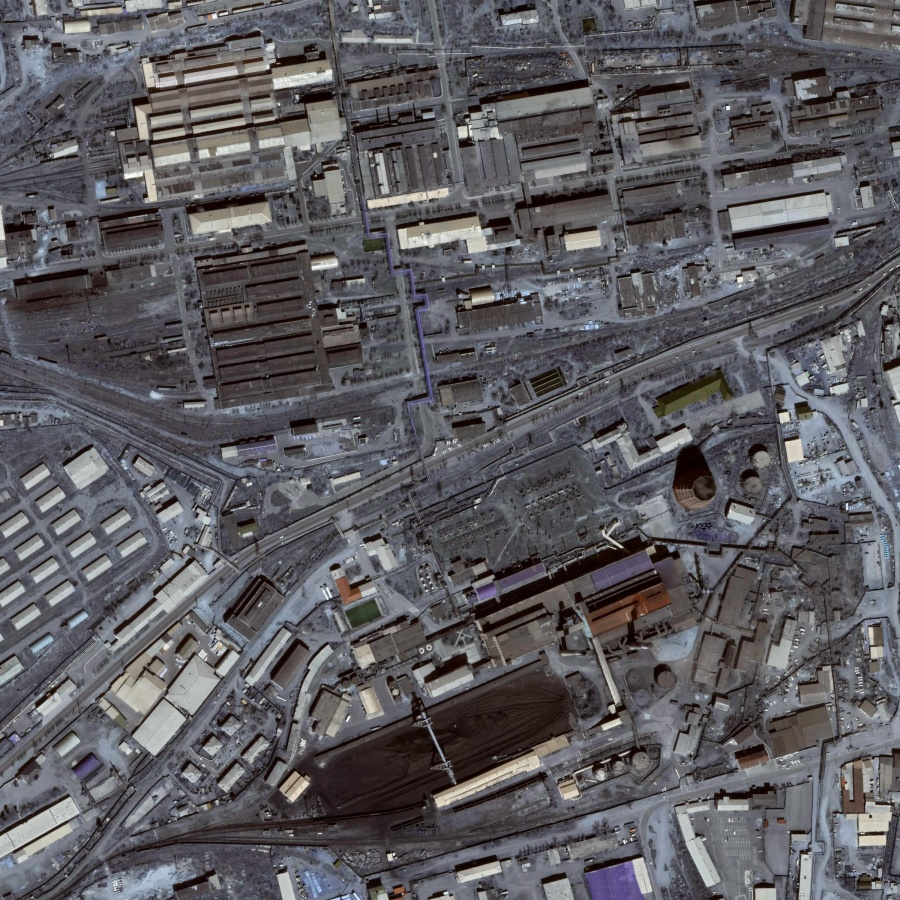PowerPlant: (299, 444, 780, 826)
